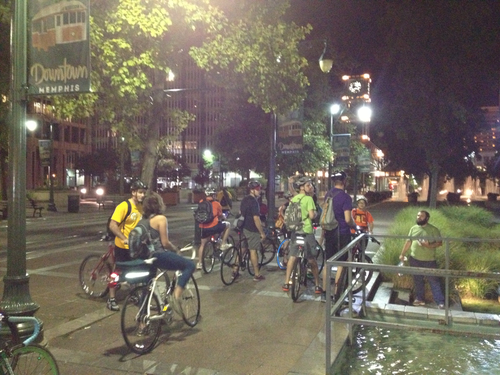bikerider: (115, 192, 207, 356), (81, 177, 163, 303), (275, 176, 332, 308), (220, 180, 282, 285)
